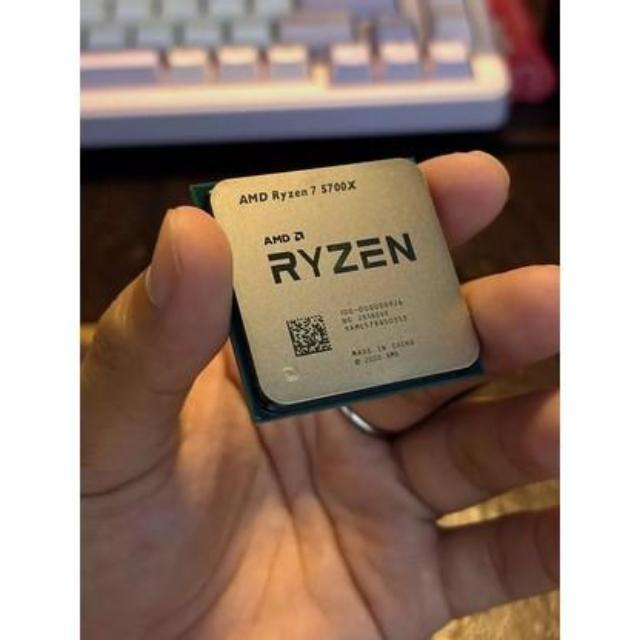CPU: (208, 157, 486, 417)
